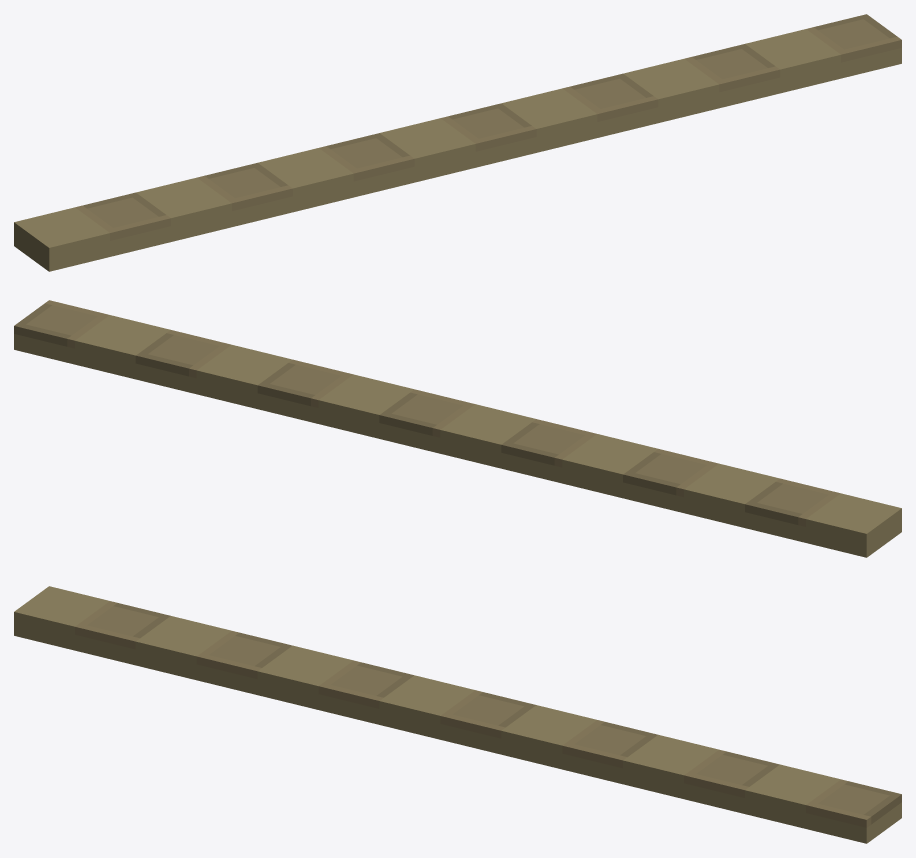
File: BlockL1.obj
3 views of the same model, one above another, from view 1: azimuth 30°, elevation 25°; view 2: azimuth 150°, elevation 25°; view 3: azimuth 330°, elevation 25° (orthographic).
Bounding box in the file's own units: 11.2 × 0.3 × 0.8.
1 material, 1 textured.
